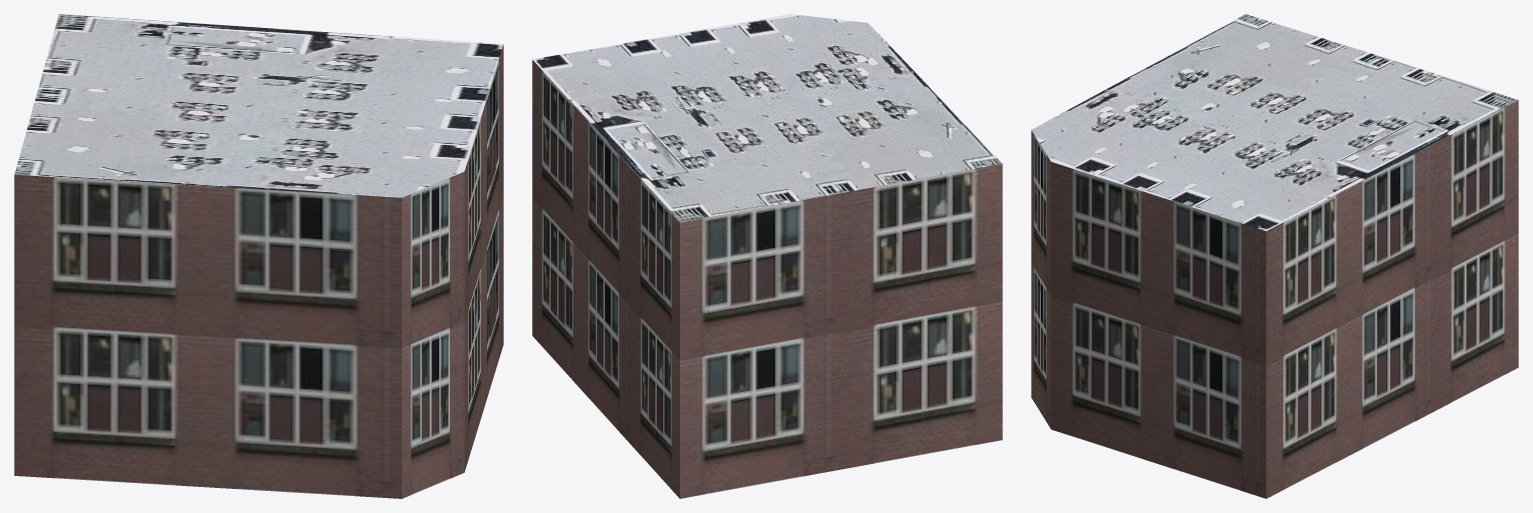
Rendered from ResTex__957.fbx.
The picture shows the model from 3 angles, left to right: view 1: azimuth 30°, elevation 25°; view 2: azimuth 150°, elevation 25°; view 3: azimuth 270°, elevation 25°; orthographic projection. The views are drawn at different scales.
Parts seen in each view (by area): view 1: CityEngineMaterial_12_m, CityEngineMaterial_8_m; view 2: CityEngineMaterial_12_m, CityEngineMaterial_8_m; view 3: CityEngineMaterial_12_m, CityEngineMaterial_8_m.
Boxes of the visible parts, x1,y1,x2,y2 form: CityEngineMaterial_12_m: (14, 44, 503, 498); CityEngineMaterial_8_m: (14, 14, 503, 197); CityEngineMaterial_12_m: (532, 60, 1002, 498); CityEngineMaterial_8_m: (532, 14, 1002, 222); CityEngineMaterial_12_m: (1031, 100, 1518, 498); CityEngineMaterial_8_m: (1031, 14, 1518, 231).
Bounding box in the file's own units: 10.44 × 6 × 9.9.
Materials: 2 (2 with a texture image).
